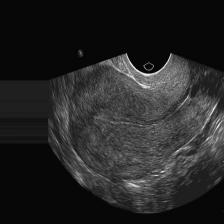no-pcos: (60, 75, 224, 206)
